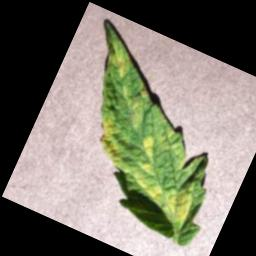Leaf_Mold: (112, 161, 198, 227), (87, 113, 142, 171), (130, 132, 168, 176), (121, 83, 154, 129), (100, 45, 136, 83)
